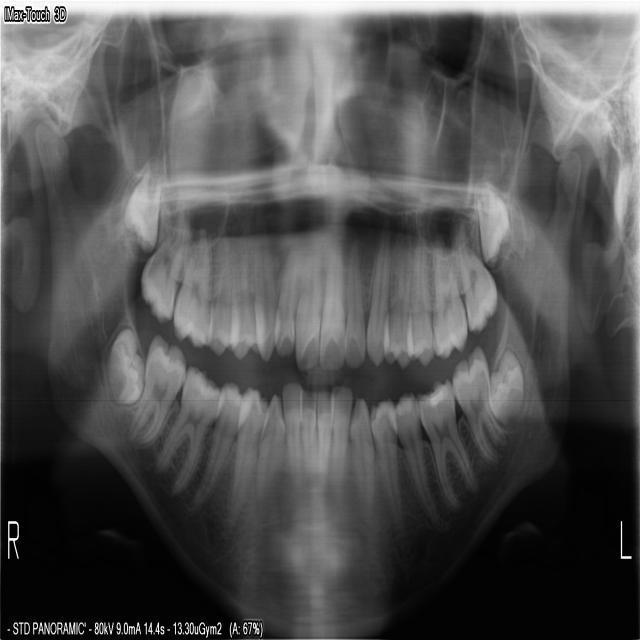LCD: (346, 392, 375, 514)
LCU: (363, 219, 391, 372)
LID: (328, 381, 353, 502), (313, 386, 334, 514)
LIU: (316, 229, 345, 375), (342, 236, 365, 371)
LMD: (412, 372, 479, 517), (449, 340, 510, 466), (484, 342, 525, 425)
LMU: (428, 229, 467, 362), (456, 242, 498, 335), (473, 181, 514, 268)
LPMD: (391, 386, 443, 532), (366, 392, 404, 546)
LPMU: (380, 204, 413, 371), (403, 202, 435, 369)
RCD: (251, 389, 286, 519)
RCU: (251, 201, 280, 367)
RID: (278, 378, 303, 519), (297, 384, 316, 514)
RIU: (293, 224, 323, 375), (271, 228, 300, 361)
RMD: (151, 362, 225, 497), (123, 329, 186, 446), (104, 323, 144, 408)
RMU: (136, 198, 185, 332), (168, 219, 213, 352), (120, 154, 164, 255)
RPMD: (186, 377, 249, 517), (223, 383, 268, 531)
RPMU: (203, 217, 241, 358), (228, 208, 257, 362)
